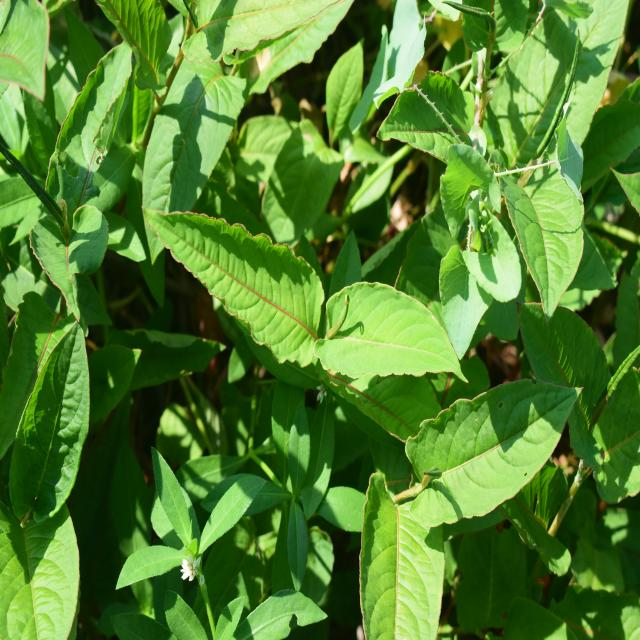Chinese_knotweed: (165, 187, 457, 398)
